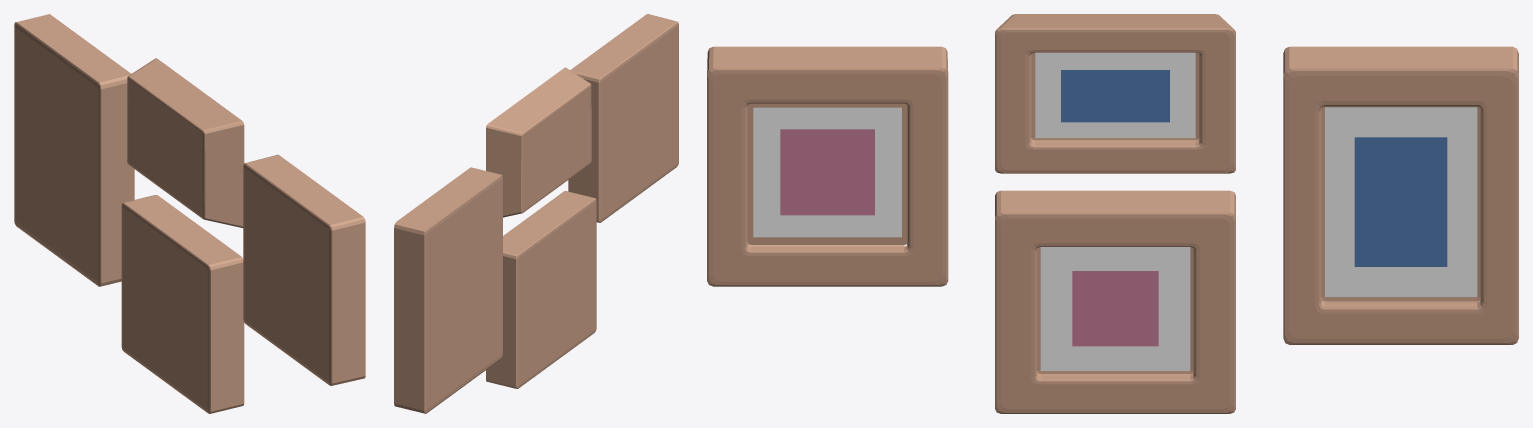
File: Bedroom_Pictures.fbx
3 renders of one model, left to right at view 1: azimuth 30°, elevation 25°; view 2: azimuth 150°, elevation 25°; view 3: azimuth 270°, elevation 25°, orthographic. The views are drawn at different scales.
Parts seen in each view (by area): view 1: Bedroom_Pictures.001; view 2: Bedroom_Pictures.001; view 3: Bedroom_Pictures.001, Bedroom_Pictures.002, Bedroom_Pictures, Bedroom_Pictures.003.
Boxes of the visible parts, bbox=[...] form: Bedroom_Pictures.001: bbox=[14, 14, 365, 413]; Bedroom_Pictures.001: bbox=[394, 14, 678, 413]; Bedroom_Pictures.001: bbox=[707, 14, 1518, 413]; Bedroom_Pictures.002: bbox=[753, 52, 1477, 370]; Bedroom_Pictures: bbox=[1061, 70, 1447, 266]; Bedroom_Pictures.003: bbox=[780, 129, 1158, 346].
Size of the model in its own units: 114 by 60.03 by 11.7.
